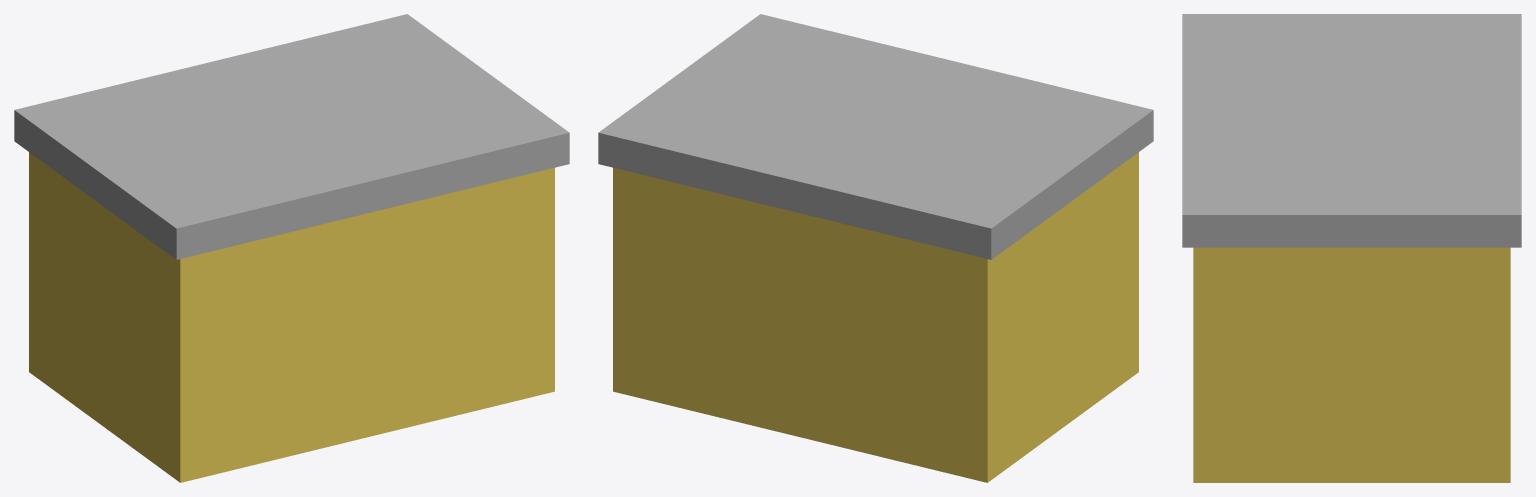
File: salt_storage_bin.glb
3 views of the same model, side by side, from view 1: azimuth 30°, elevation 25°; view 2: azimuth 150°, elevation 25°; view 3: azimuth 270°, elevation 25° (orthographic). The views are drawn at different scales.
Visible parts, largest first — view 1: bin, lid; view 2: bin, lid; view 3: lid, bin.
Part boxes in pixels (left/top/right/bottom): bin: left=29, top=152, right=554, bottom=482; lid: left=14, top=14, right=569, bottom=259; bin: left=613, top=152, right=1138, bottom=482; lid: left=598, top=14, right=1153, bottom=259; lid: left=1182, top=14, right=1521, bottom=247; bin: left=1193, top=247, right=1510, bottom=482.
Bounding box in the file's own units: 2.1 × 1.33 × 1.5.
